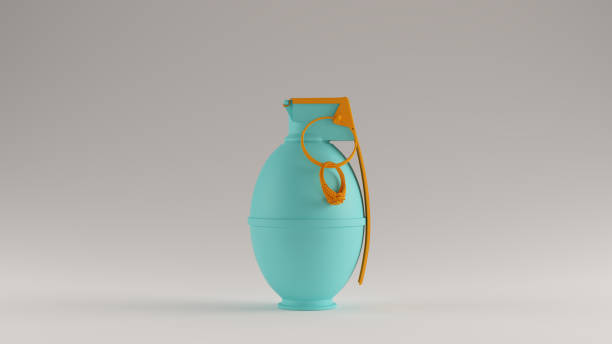e1: (251, 100, 375, 316)
